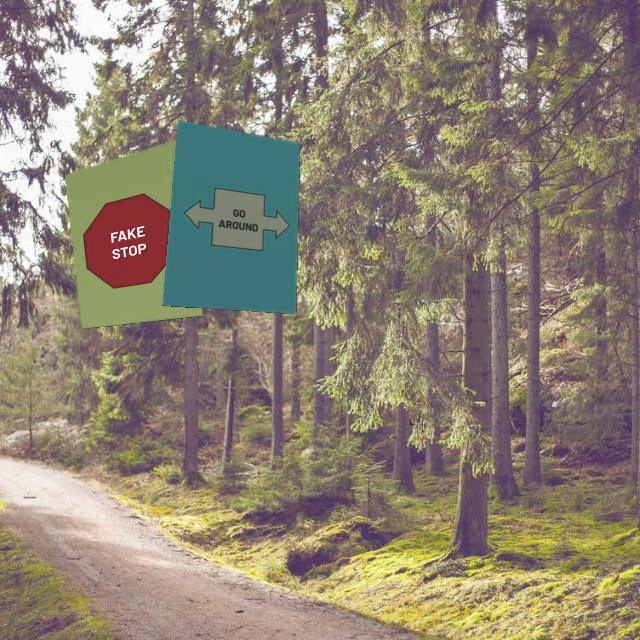FAKE_STOP: (80, 186, 180, 293)
GO_AROUND: (182, 183, 292, 259)
